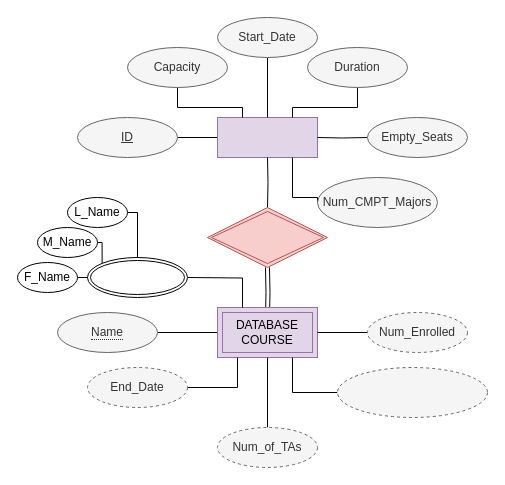
The diagram is 505 pixels wide and 485 high, and some of its shapes have lost their labels. Each missing label, with the box of its shape:
CMPT COURSE: (216, 116, 318, 158)
INCLUDES: (206, 206, 328, 268)
Num_NonCMPT_Majors: (336, 366, 488, 418)
Professor_Name: (86, 256, 188, 298)
